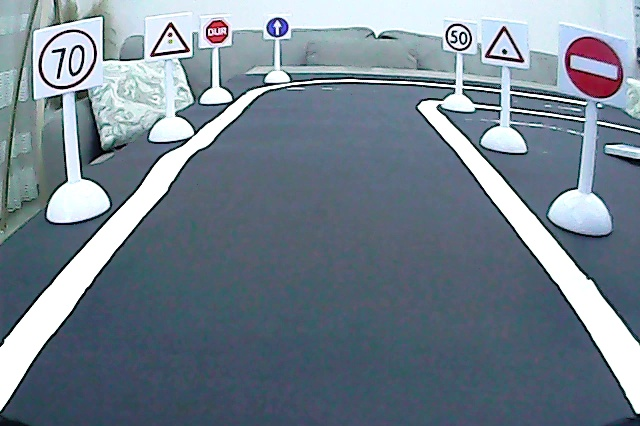do not enter: (562, 33, 626, 103)
green light: (482, 22, 529, 66)
red light: (147, 18, 193, 59)
speed limit 50: (443, 22, 474, 55)
speed limit 70: (35, 24, 101, 91)
stop sign: (202, 17, 232, 47)
